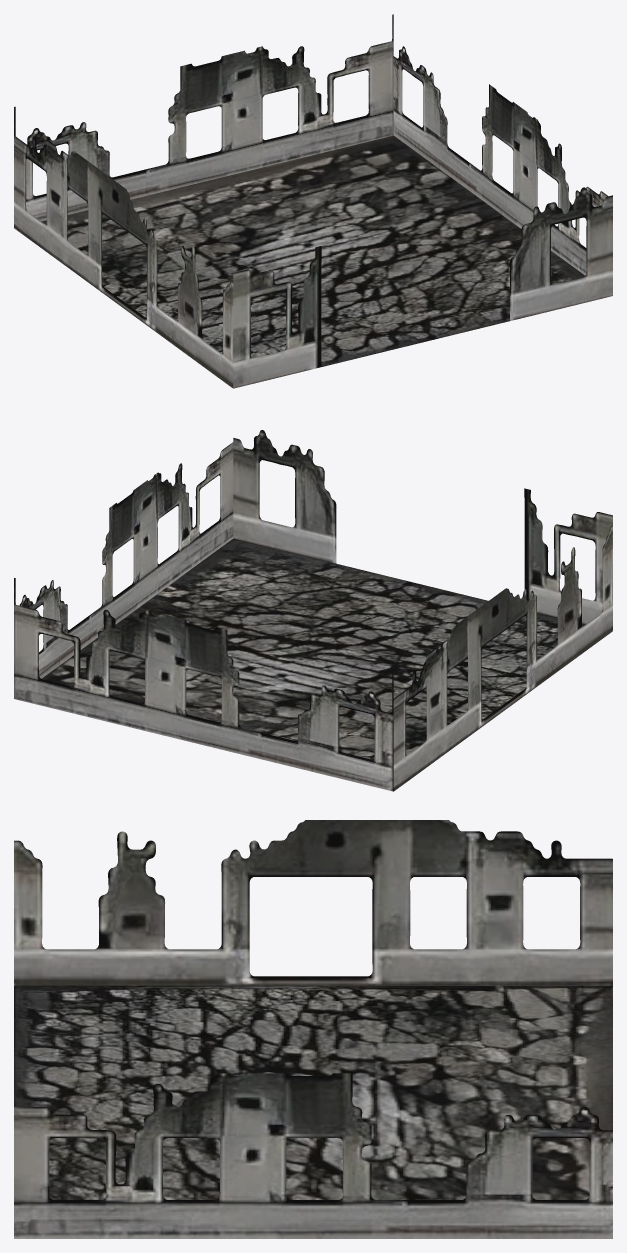
Rendered from city4storyb_dam_hdtex.glb.
The picture shows the model from 3 angles, top to bottom: view 1: azimuth 30°, elevation 25°; view 2: azimuth 150°, elevation 25°; view 3: azimuth 270°, elevation 25°; orthographic projection. The views are drawn at different scales.
Visible parts, largest first — view 1: City2StoryA; view 2: City2StoryA; view 3: City2StoryA.
Boxes of the visible parts, x1=… form: City2StoryA: x1=14, y1=14, x2=612, y2=388; City2StoryA: x1=14, y1=430, x2=612, y2=791; City2StoryA: x1=14, y1=820, x2=612, y2=1238.
Bounding box in the file's own units: 17.76 × 5.42 × 17.76.
1 material, 1 textured.
